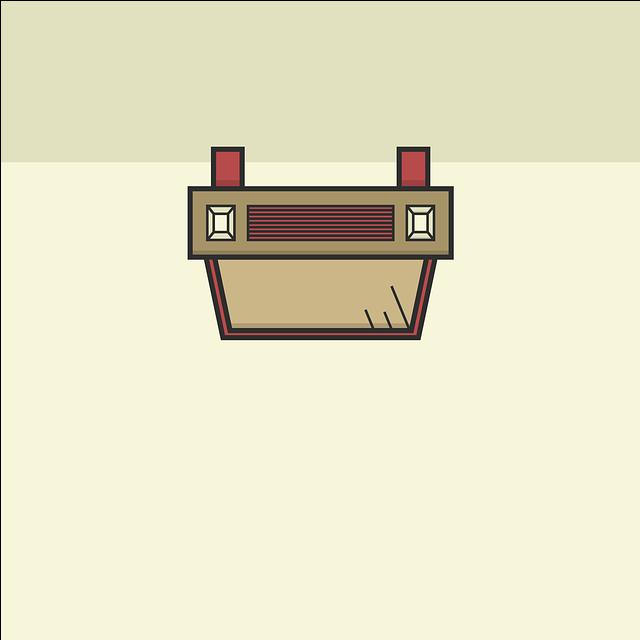Non_Gorille: (25, 2, 603, 596)
